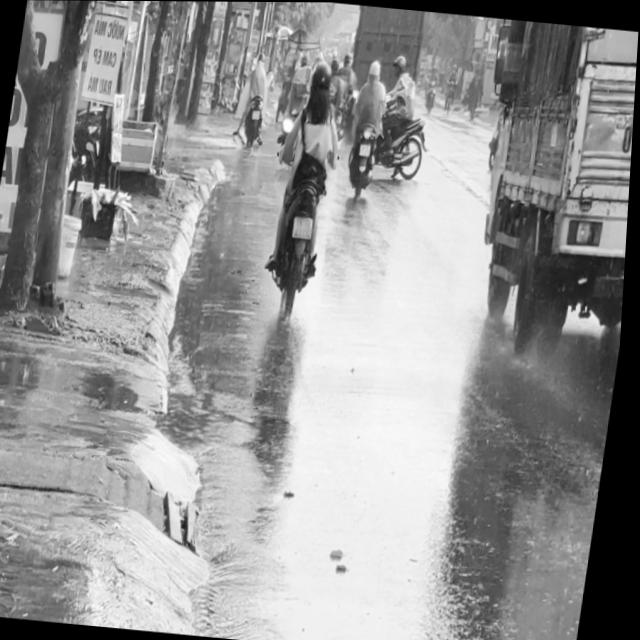helmet: (308, 58, 336, 104)
licenseplate: (260, 49, 353, 314)
nohelmet: (295, 215, 317, 237)
